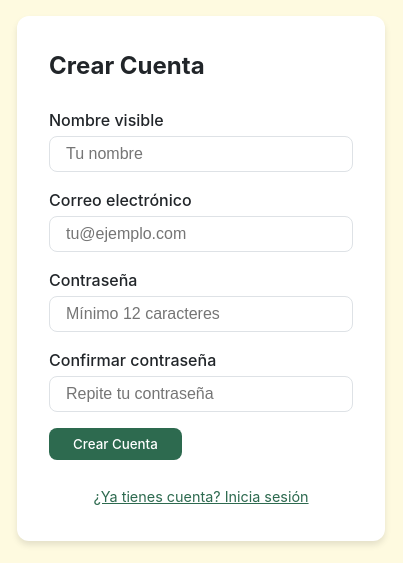
Test: AuthPage - Rutas y query params › al hacer clic en "¿Ya tienes cuenta?" desde registro cambia a vista login
The width and height of the screenshot is (403, 563).
What coordinates should you click on to do the following:
click the button "¿Ya tienes cuenta? Inicia sesión"
I would click on:
 (201, 496)
Its box is [89, 484, 312, 509].
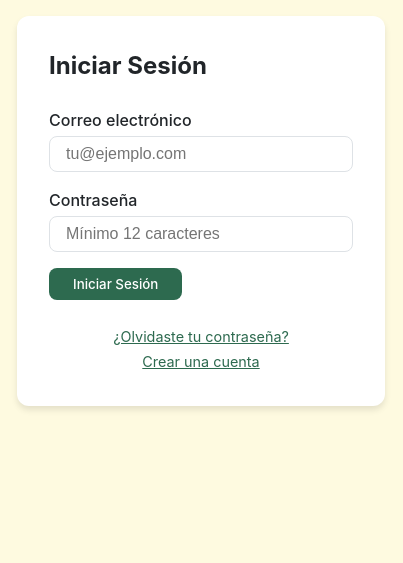
Now the form named "formulario de inicio de sesión" is shown
